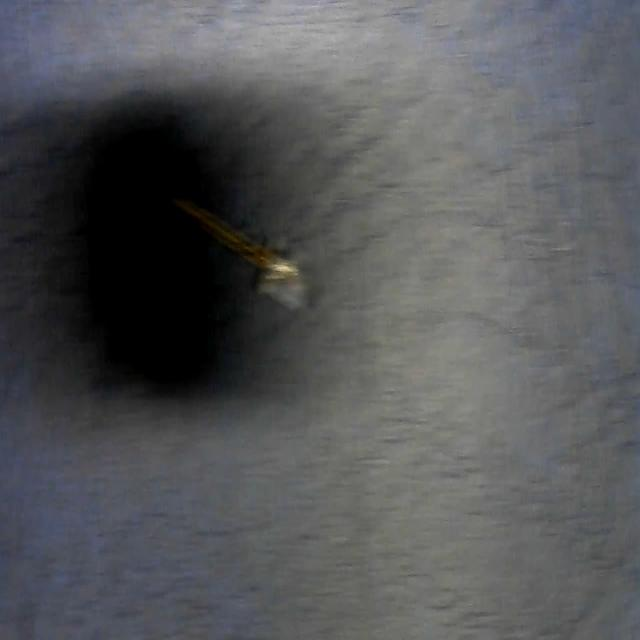LED: (180, 192, 314, 310)
